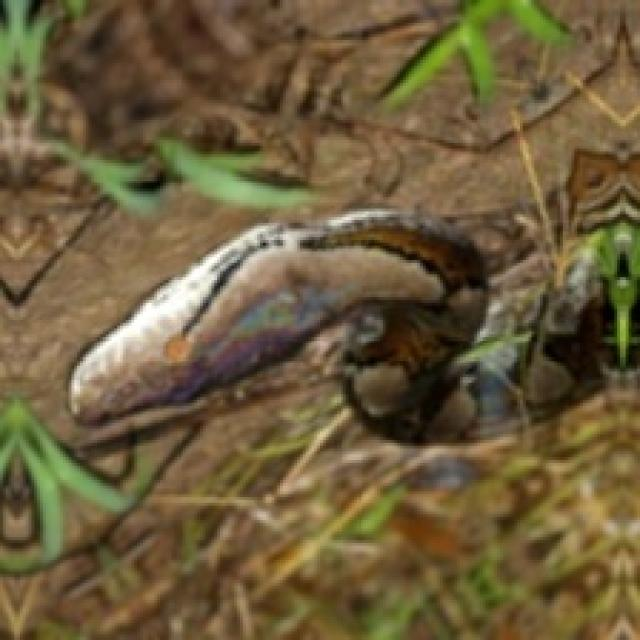reticulated python: (69, 209, 604, 441), (568, 152, 640, 229)
